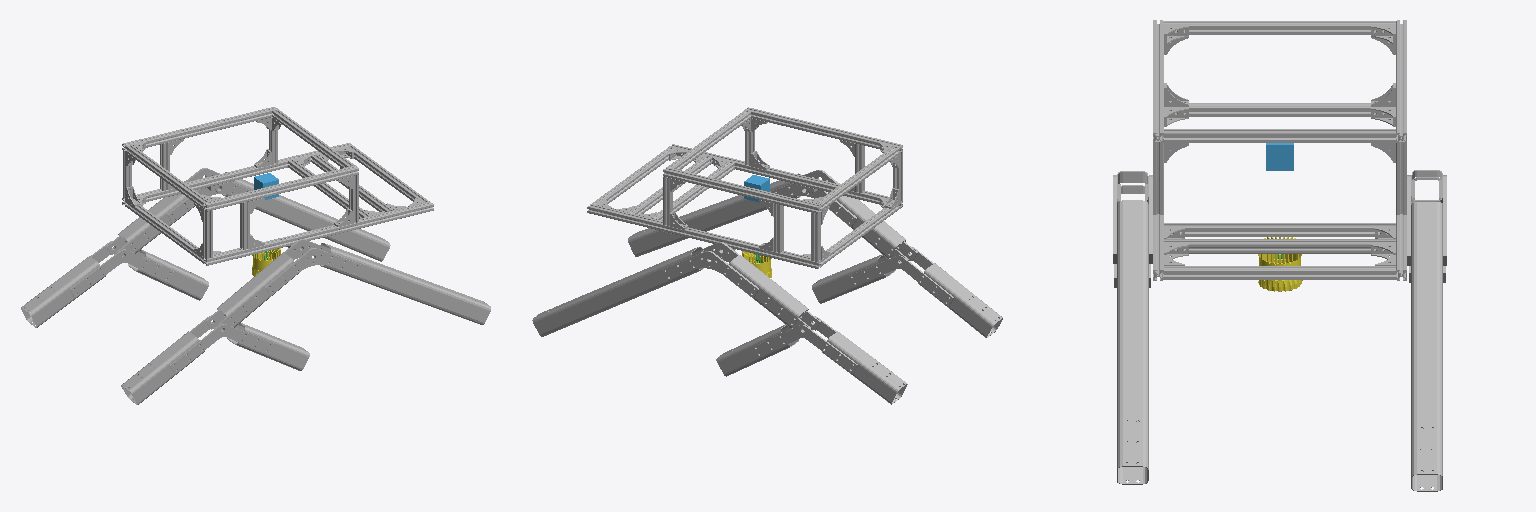
robot.urdf — rover:
<?xml version="1.0" encoding="utf-8"?>
<!-- This URDF was automatically created by SolidWorks to URDF Exporter! Originally created by [author] ([email redacted]) 
     Commit Version: 1.6.0-4-g7f85cfe  Build Version: 1.6.7995.38578
     For more information, please see http://wiki.ros.org/sw_urdf_exporter -->
<robot
  name="rover">
  <link
    name="chassis">
    <inertial>
      <origin
        xyz="0.280596630449412 0.391929398096866 0.497299040946044"
        rpy="0 0 0" />
      <mass
        value="1.29640563513338" />
      <inertia
        ixx="0.00672846851367381"
        ixy="1.67488363226178E-11"
        ixz="4.18701658746673E-12"
        iyy="0.0141290723043649"
        iyz="4.23106487277759E-11"
        izz="0.0202362014370819" />
    </inertial>
    <visual>
      <origin
        xyz="0 0 0"
        rpy="0 0 0" />
      <geometry>
        <mesh
          filename="package://rover/rover/simulation/meshes/chassis.STL" />
      </geometry>
      <material
        name="">
        <color
          rgba="0.752941176470588 0.752941176470588 0.752941176470588 1" />
      </material>
    </visual>
    <collision>
      <origin
        xyz="0 0 0"
        rpy="0 0 0" />
      <geometry>
        <mesh
          filename="package://rover/rover/simulation/meshes/chassis.STL" />
      </geometry>
    </collision>
  </link>
  <link
    name="right_rocker">
    <inertial>
      <origin
        xyz="-0.0569379504262081 -0.0279401827117303 0.173105600500696"
        rpy="0 0 0" />
      <mass
        value="0.702057959029176" />
      <inertia
        ixx="0.00201938596176855"
        ixy="8.38446274601664E-19"
        ixz="-0.00197087340304265"
        iyy="0.00810448763367223"
        iyz="3.52036066567989E-19"
        izz="0.00646378679421278" />
    </inertial>
    <visual>
      <origin
        xyz="0 0 0"
        rpy="0 0 0" />
      <geometry>
        <mesh
          filename="package://rover/rover/simulation/meshes/rocker_1.STL" />
      </geometry>
      <material
        name="">
        <color
          rgba="0.752941176470588 0.752941176470588 0.752941176470588 1" />
      </material>
    </visual>
    <collision>
      <origin
        xyz="0 0 0"
        rpy="0 0 0" />
      <geometry>
        <mesh
          filename="package://rover/simulation/meshes/rocker_1.STL" />
      </geometry>
    </collision>
  </link>
  <joint
    name="chassis_right_rocker_joint"
    type="fixed">
    <origin
      xyz="0.256227202845866 0.104049397997044 0.442431681089809"
      rpy="3.14159265358979 0 0" />
    <parent
      link="chassis" />
    <child
      link="right_rocker" />
    <axis
      xyz="0 1 0" />
  </joint>
  <link
    name="front_right_wheel">
    <inertial>
      <origin
        xyz="-0.000176268265629331 -0.063545275407954 -0.000101180829060271"
        rpy="0 0 0" />
      <mass
        value="3.71098878156725" />
      <inertia
        ixx="0.0272042721492542"
        ixy="4.78292852750308E-05"
        ixz="-4.80095002679056E-05"
        iyy="0.0486688742529404"
        iyz="2.76468584338433E-05"
        izz="0.0272554582911533" />
    </inertial>
    <visual>
      <origin
        xyz="0 0 0"
        rpy="0 0 0" />
      <geometry>
        <mesh
          filename="package://rover/rover/simulation/meshes/wheel_1.STL" />
      </geometry>
      <material
        name="">
        <color
          rgba="0.752941176470588 0.752941176470588 0.752941176470588 1" />
      </material>
    </visual>
    <collision>
      <origin
        xyz="0 0 0"
        rpy="0 0 0" />
      <geometry>
        <mesh
          filename="package://rover/rover/simulation/meshes/wheel_1.STL" />
      </geometry>
    </collision>
  </link>
  <joint
    name="front_right_wheel_joint"
    type="continuous">
    <origin
      xyz="0.566011190291999 0.1316352 0.343614113670245"
      rpy="0 0 0" />
    <parent
      link="right_rocker" />
    <child
      link="front_right_wheel" />
    <axis
      xyz="0 1 0" />
  </joint>
  <link
    name="rear_right_wheel">
    <inertial>
      <origin
        xyz="0.000178620256626905 -0.0635452759401471 -9.69747179342118E-05"
        rpy="0 0 0" />
      <mass
        value="3.71098882585926" />
      <inertia
        ixx="0.0271986135719232"
        ixy="-4.86694249211029E-05"
        ixz="4.4432824626282E-05"
        iyy="0.048668870619602"
        iyz="2.62407892171943E-05"
        izz="0.0272611104614586" />
    </inertial>
    <visual>
      <origin
        xyz="0 0 0"
        rpy="0 0 0" />
      <geometry>
        <mesh
          filename="package://rover/rover/simulation/meshes/wheel_2.STL" />
      </geometry>
      <material
        name="">
        <color
          rgba="0.752941176470588 0.752941176470588 0.752941176470588 1" />
      </material>
    </visual>
    <collision>
      <origin
        xyz="0 0 0"
        rpy="0 0 0" />
      <geometry>
        <mesh
          filename="package://rover/rover/simulation/meshes/wheel_2.STL" />
      </geometry>
    </collision>
  </link>
  <joint
    name="rear_right_wheel_joint"
    type="continuous">
    <origin
      xyz="-0.569418798760428 0.1316347 0.337858198560885"
      rpy="0 0 0" />
    <parent
      link="right_rocker" />
    <child
      link="rear_right_wheel" />
    <axis
      xyz="0 1 0" />
  </joint>
  <link
    name="middle_right_wheel">
    <inertial>
      <origin
        xyz="0.00194962016118483 -0.0675452750876231 0.00121412273220574"
        rpy="0 0 0" />
      <mass
        value="3.71098876791251" />
      <inertia
        ixx="0.0272070703663635"
        ixy="4.70156922027863E-05"
        ixz="-4.9399498887416E-05"
        iyy="0.0486688742503798"
        iyz="2.90088130261499E-05"
        izz="0.0272526600966611" />
    </inertial>
    <visual>
      <origin
        xyz="0 0 0"
        rpy="0 0 0" />
      <geometry>
        <mesh
          filename="package://rover/rover/simulation/meshes/wheel_3.STL" />
      </geometry>
      <material
        name="">
        <color
          rgba="0.752941176470588 0.752941176470588 0.752941176470588 1" />
      </material>
    </visual>
    <collision>
      <origin
        xyz="0 0 0"
        rpy="0 0 0" />
      <geometry>
        <mesh
          filename="package://rover/rover/simulation/meshes/wheel_3.STL" />
      </geometry>
    </collision>
  </link>
  <joint
    name="middle_right_wheel_joint"
    type="continuous">
    <origin
      xyz="0.00389311933816788 0.135634699999995 0.348264389277544"
      rpy="0 0 0" />
    <parent
      link="right_rocker" />
    <child
      link="middle_right_wheel" />
    <axis
      xyz="0 1 0" />
  </joint>
  <link
    name="left_rocker">
    <inertial>
      <origin
        xyz="-0.0634016522720201 0.0349398172882701 0.170844109095454"
        rpy="0 0 0" />
      <mass
        value="0.702057959029149" />
      <inertia
        ixx="0.00217365418533618"
        ixy="6.73373283262978E-19"
        ixz="-0.00213217567457792"
        iyy="0.00810448763367225"
        iyz="9.78126874401938E-19"
        izz="0.00630951857064517" />
    </inertial>
    <visual>
      <origin
        xyz="0 0 0"
        rpy="0 0 0" />
      <geometry>
        <mesh
          filename="package://rover/rover/simulation/meshes/rocker_2.STL" />
      </geometry>
      <material
        name="">
        <color
          rgba="0.752941176470588 0.752941176470588 0.752941176470588 1" />
      </material>
    </visual>
    <collision>
      <origin
        xyz="0 0 0"
        rpy="0 0 0" />
      <geometry>
        <mesh
          filename="package://rover/rover/simulation/meshes/rocker_2.STL" />
      </geometry>
    </collision>
  </link>
  <joint
    name="chassis_left_rocker_joint"
    type="fixed">
    <origin
      xyz="0.257280649253525 0.686809397997044 0.442407585082231"
      rpy="3.14159265358979 0 0" />
    <parent
      link="chassis" />
    <child
      link="left_rocker" />
    <axis
      xyz="0 1 0" />
  </joint>
  <link
    name="front_left_wheel">
    <inertial>
      <origin
        xyz="0.00194021425049595 0.0675452760210624 0.0012290934521642"
        rpy="0 0 0" />
      <mass
        value="3.71098880202612" />
      <inertia
        ixx="0.0272054221797023"
        ixy="-4.6545735350503E-05"
        ixz="-4.86053275352078E-05"
        iyy="0.0486688742211578"
        iyz="-2.97572117749254E-05"
        izz="0.0272543080141054" />
    </inertial>
    <visual>
      <origin
        xyz="0 0 0"
        rpy="0 0 0" />
      <geometry>
        <mesh
          filename="package://rover/rover/simulation/meshes/wheel_4.STL" />
      </geometry>
      <material
        name="">
        <color
          rgba="0.752941176470588 0.752941176470588 0.752941176470588 1" />
      </material>
    </visual>
    <collision>
      <origin
        xyz="0 0 0"
        rpy="0 0 0" />
      <geometry>
        <mesh
          filename="package://rover/rover/simulation/meshes/wheel_4.STL" />
      </geometry>
    </collision>
  </link>

  <joint
    name="front_left_wheel_joint"
    type="continuous">
    <origin
      xyz="0.550522165589643 -0.128635200000009 0.363405762447953"
      rpy="0 0 0" />
    <parent
      link="left_rocker" />
    <child
      link="front_left_wheel" />
    <axis
      xyz="0 1 0" />
  </joint>
  <link
    name="middle_left_wheel">
    <inertial>
      <origin
        xyz="0.00190412164591511 0.0675452763004372 0.00128429872637638"
        rpy="0 0 0" />
      <mass
        value="3.7109887931054" />
      <inertia
        ixx="0.0272082525262715"
        ixy="-4.56720854196087E-05"
        ixz="-4.99283758016243E-05"
        iyy="0.0486688742002614"
        iyz="-3.10813718997883E-05"
        izz="0.0272514775785934" />
    </inertial>
    <visual>
      <origin
        xyz="0 0 0"
        rpy="0 0 0" />
      <geometry>
        <mesh
          filename="package://rover/rover/simulation/meshes/wheel_5.STL" />
      </geometry>
      <material
        name="">
        <color
          rgba="0.752941176470588 0.752941176470588 0.752941176470588 1" />
      </material>
    </visual>
    <collision>
      <origin
        xyz="0 0 0"
        rpy="0 0 0" />
      <geometry>
        <mesh
          filename="package://rover/rover/simulation/meshes/wheel_5.STL" />
      </geometry>
    </collision>
  </link>
  <joint
    name="middle_left_wheel_joint"
    type="continuous">
    <origin
      xyz="-0.00926565490461811 -0.128635699999999 0.348270005795649"
      rpy="0 0 0" />
    <parent
      link="left_rocker" />
    <child
      link="middle_left_wheel" />
    <axis
      xyz="0 1 0" />
  </joint>
  <link
    name="rear_left_wheel">
    <inertial>
      <origin
        xyz="0.000183308022644324 0.063545275877115 -8.77894032265403E-05"
        rpy="0 0 0" />
      <mass
        value="3.71098880708039" />
      <inertia
        ixx="0.0271974322176279"
        ixy="4.97534168410985E-05"
        ixz="4.36810350456356E-05"
        iyy="0.0486688742475462"
        iyz="-2.40124238018518E-05"
        izz="0.027262298065" />
    </inertial>
    <visual>
      <origin
        xyz="0 0 0"
        rpy="0 0 0" />
      <geometry>
        <mesh
          filename="package://rover/rover/simulation/meshes/wheel_6.STL" />
      </geometry>
      <material
        name="">
        <color
          rgba="0.752941176470588 0.752941176470588 0.752941176470588 1" />
      </material>
    </visual>
    <collision>
      <origin
        xyz="0 0 0"
        rpy="0 0 0" />
      <geometry>
        <mesh
          filename="package://rover/rover/simulation/meshes/wheel_6.STL" />
      </geometry>
    </collision>
  </link>
  <joint
    name="rear_left_wheel_joint"
    type="continuous">
    <origin
      xyz="-0.585325281230279 -0.124635699999999 0.308803919717537"
      rpy="0 0 0" />
    <parent
      link="left_rocker" />
    <child
      link="rear_left_wheel" />
    <axis
      xyz="0 1 0" />
  </joint>

  <link name="imu_link">
    <collision>
      <origin xyz="0 0 0" rpy="0 0 0"/>
      <geometry>
    <box size="0.05 0.05 0.05"/>
      </geometry>
    </collision>

    <visual>
      <origin xyz="0 0 0" rpy="0 0 0"/>
      <geometry>
    <box size="0.05 0.05 0.05"/>
      </geometry>
      <material name="red"/>
    </visual>

    <inertial>
      <mass value="1e-5" />
      <origin xyz="0 0 0" rpy="0 0 0"/>
      <inertia ixx="1e-6" ixy="0" ixz="0" iyy="1e-6" iyz="0" izz="1e-6" />
    </inertial>
  </link>


  <joint name="imu_joint" type="fixed">
    <origin
      xyz="0.280596630449412 0.391929398096866 0.497299040946044"
      rpy="1.5707963267949 0 0" />
    <parent
      link="chassis" />
    <child
      link="imu_link" />
    <axis
      xyz="0 0 0" />
  </joint>

  <link name="gps_link">
    <collision>
      <origin xyz="0 0 0" rpy="0 0 0"/>
      <geometry>
    <box size="0.05 0.05 0.05"/>
      </geometry>
    </collision>

    <visual>
      <origin xyz="0 0 0" rpy="0 0 0"/>
      <geometry>
    <box size="0.05 0.05 0.05"/>
      </geometry>
      <material name="red"/>
    </visual>

    <inertial>
      <mass value="1e-5" />
      <origin xyz="0 0 0" rpy="0 0 0"/>
      <inertia ixx="1e-6" ixy="0" ixz="0" iyy="1e-6" iyz="0" izz="1e-6" />
    </inertial>
  </link>

  <joint name="gps_joint" type="fixed">
    <origin
      xyz="0.280596630449412 0.391929398096866 0.278189004081027" 
      rpy="0 0 0" />
    <parent
      link="chassis" />
    <child
      link="gps_link" />
    <axis
      xyz="0 0 0" />
  </joint>

  <link name="lidar_link">
    <inertial>
      <mass value="0.425"/>
      <origin xyz="0 0 0.03675" rpy="0 0 0" />
      <inertia ixx="0.000308429" ixy="0" ixz="0"
                iyy="0.000308429" iyz="0" izz="0.00034589"/>
    </inertial>
    <collision>
      <origin xyz="0 0 0.03675" rpy="0 0 0" />
      <geometry>
        <mesh filename="package://rover/rover/simulation/meshes/os1_64.stl" />
      </geometry>
    </collision>
    <visual>
      <origin xyz="0 0 0" rpy="0 0 0"/>
      <geometry>
        <mesh filename="package://rover/rover/simulation/meshes/os1_64.stl" />
      </geometry>
    </visual>
  </link>

  <joint name="lidar_joint" type="fixed">
      <parent link="chassis"/>
      <child link="lidar_link"/>
      <axis
      xyz="0 0 0" />
      <origin
      xyz="0.280596630449412 0.391929398096866 0.278189004081027"
      rpy="0 0 0" />
  </joint> 

  <gazebo>
    <plugin name="gazebo_ros_control" filename="libgazebo_ros_control.so">
      <robotNamespace>/</robotNamespace>
      <controlPeriod>0.001</controlPeriod>
      <legacyModeNS>false</legacyModeNS>
    </plugin>
  </gazebo>
  <gazebo>
      <plugin name="diff_drive_controller" filename="libgazebo_ros_diff_drive.so">
        <legacyMode>false</legacyMode>
        <alwaysOn>true</alwaysOn>
        <updateRate>1000.0</updateRate>
        <leftJoint>front_left_wheel_joint, middle_left_wheel_joint, rear_left_wheel_joint</leftJoint>
        <rightJoint>front_right_wheel_joint, middle_right_wheel_joint, rear_right_wheel_joint</rightJoint>
        <wheelSeparation>0.5</wheelSeparation>
        <wheelDiameter>0.2</wheelDiameter>
        <wheelTorque>10</wheelTorque>
        <publishTf>1</publishTf>
        <odometryFrame>map</odometryFrame>
        <commandTopic>cmd_vel</commandTopic> 
        <odometryTopic>odom</odometryTopic>
        <robotBaseFrame>chassis</robotBaseFrame>
        <wheelAcceleration>2.8</wheelAcceleration>
        <publishWheelJointState>true</publishWheelJointState>
        <publishWheelTF>false</publishWheelTF>
        <odometrySource>world</odometrySource>
        <rosDebugLevel>Debug</rosDebugLevel>
      </plugin>
  </gazebo>
  <gazebo reference="front_left_wheel">
    <mu1 value="1.0"/>
    <mu2 value="1.0"/>
    <kp value="10000000.0" />
    <kd value="1.0" />
    <fdir1 value="1 0 0"/>
  </gazebo>

  <gazebo reference="front_right_wheel">
  <mu1 value="1.0"/>
  <mu2 value="1.0"/>
  <kp value="10000000.0" />
  <kd value="1.0" />
  <fdir1 value="1 0 0"/>
  </gazebo>

  <gazebo reference="rear_left_wheel">
    <mu1 value="1.0"/>
    <mu2 value="1.0"/>
    <kp value="10000000.0" />
    <kd value="1.0" />
    <fdir1 value="1 0 0"/>
  </gazebo>

  <gazebo reference="rear_left_wheel">
    <mu1 value="1.0"/>
    <mu2 value="1.0"/>
    <kp value="10000000.0" />
    <kd value="1.0" />
    <fdir1 value="1 0 0"/>
  </gazebo>
  <!--######################################################################-->

  <gazebo>
    <plugin filename="libhector_gazebo_ros_imu.so"
              name="hector_imu_plugin" >
      <alwaysOn>true</alwaysOn>
      <bodyName>imu_link</bodyName>
      <topicName>imu</topicName>
      <serviceName>/imu/calibrate</serviceName>
      <gaussianNoise>0.0</gaussianNoise>
      <updateRate>50.0</updateRate>
      <frameName>imu_link</frameName>
      <accelOffset>0 0 0 </accelOffset>
      <accelGaussianNoise>0 0 0</accelGaussianNoise>
      <accelDrift>0 0 0 </accelDrift>
      <accelDriftFrequency>0 0 0</accelDriftFrequency>
      <rateOffset>0 0 0</rateOffset>
      <rateGaussianNoise> 0 0 0</rateGaussianNoise>
      <rateDrift>0 0 0 </rateDrift>
      <rateDriftFrequency> 0 0 0</rateDriftFrequency>
      <yawOffset> 0 </yawOffset>
      <yawGaussianNoise> 0 </yawGaussianNoise>
      <yawDrift> 0 </yawDrift>
      <yawDriftFrequency> 0 </yawDriftFrequency> 
    </plugin>
  </gazebo>

<!--######################################################################-->
  <gazebo>
    <plugin name="gps_controller" filename="libhector_gazebo_ros_gps.so">
        <robotNamespace>/</robotNamespace>
        <updateRate>40</updateRate>
        <bodyName>chassis</bodyName>
        <frameId>chassis</frameId>
        <topicName>navsat/fix</topicName>
        <velocityTopicName>navsat/vel</velocityTopicName>
        <referenceLatitude>50.0</referenceLatitude>
        <referenceLongitude>60.0</referenceLongitude>
        <referenceHeading>0</referenceHeading>
        <referenceAltitude>0</referenceAltitude>
        <drift>0.0001 0.0001 0.0001</drift>
    </plugin>
  </gazebo>
<!--######################################################################-->

<gazebo reference="lidar_link">
    <sensor type="gpu_ray" name="os1_lidar">
      <pose>0 0 0 0 0 0</pose>
          <visualize>false</visualize>
          <update_rate>10</update_rate>
          <ray>
            <scan>
              <horizontal>
                <samples>512</samples>
                <resolution>1</resolution>
                <min_angle>-3.141529</min_angle>
                <max_angle>3.141529</max_angle>
              </horizontal>
              <vertical>
                <samples>64</samples>
                <resolution>1</resolution>
                <min_angle>-3.141529</min_angle>
                <max_angle>-3.141529</max_angle>
              </vertical>
            </scan>
            <range>
              <min>0.9</min>
              <max>75.0</max>
              <resolution>0.03</resolution>
            </range>
          </ray>
      <plugin name="gazebo_ros_head_hokuyo_controller" filename="libgazebo_ros_gpu_laser.so">
        <topicName>/rrbot/laser/scan</topicName>
        <frameName>hokuyo_link</frameName>
      </plugin>
    </sensor>
</gazebo>

<!--######################################################################-->

  <transmission name="front_left_wheel_trans" type="SimpleTransmission">
    <type>transmission_interface/SimpleTransmission</type>
    <actuator name="front_left_wheel_motor">
    <hardwareInterface>hardware_interface/VelocityJointInterface</hardwareInterface>
    <mechanicalReduction>1</mechanicalReduction>
    </actuator>
    <joint name="front_left_wheel_joint">
    <hardwareInterface>hardware_interface/VelocityJointInterface</hardwareInterface>
    </joint>
  </transmission>

  <transmission name="middle_left_wheel_trans" type="SimpleTransmission">
    <type>transmission_interface/SimpleTransmission</type>
    <actuator name="middle_left_wheel_motor">
    <hardwareInterface>hardware_interface/VelocityJointInterface</hardwareInterface>
    <mechanicalReduction>1</mechanicalReduction>
    </actuator>
    <joint name="middle_left_wheel_joint">
    <hardwareInterface>hardware_interface/VelocityJointInterface</hardwareInterface>
    </joint>
  </transmission>

  <transmission name="middle_right_wheel_trans" type="SimpleTransmission">
    <type>transmission_interface/SimpleTransmission</type>
    <actuator name="middle_right_wheel_motor">
    <hardwareInterface>hardware_interface/VelocityJointInterface</hardwareInterface>
    <mechanicalReduction>1</mechanicalReduction>
    </actuator>
    <joint name="middle_right_wheel_joint">
    <hardwareInterface>hardware_interface/VelocityJointInterface</hardwareInterface>
    </joint>
  </transmission>

  <transmission name="front_right_wheel_trans" type="SimpleTransmission">
    <type>transmission_interface/SimpleTransmission</type>
    <actuator name="front_right_wheel_motor">
    <hardwareInterface>hardware_interface/VelocityJointInterface</hardwareInterface>
    <mechanicalReduction>1</mechanicalReduction>
    </actuator>
    <joint name="front_right_wheel_joint">
    <hardwareInterface>hardware_interface/VelocityJointInterface</hardwareInterface>
    </joint>
  </transmission>

  <transmission name="rear_left_wheel_trans" type="SimpleTransmission">
    <type>transmission_interface/SimpleTransmission</type>
    <actuator name="rear_left_wheel_motor">
    <hardwareInterface>hardware_interface/VelocityJointInterface</hardwareInterface>
    <mechanicalReduction>1</mechanicalReduction>
    </actuator>
    <joint name="rear_left_wheel_joint">
    <hardwareInterface>hardware_interface/VelocityJointInterface</hardwareInterface>
    </joint>
  </transmission>

  <transmission name="rear_right_wheel_trans" type="SimpleTransmission">
    <type>transmission_interface/SimpleTransmission</type>
    <actuator name="rear_right_wheel_motor">
    <hardwareInterface>hardware_interface/VelocityJointInterface</hardwareInterface>
    <mechanicalReduction>1</mechanicalReduction>
    </actuator>
    <joint name="rear_right_wheel_joint">
      <hardwareInterface>hardware_interface/VelocityJointInterface</hardwareInterface>
    </joint>
  </transmission>
</robot>

--- Facts derived from the render (not from the file) ---
The picture shows the robot from 3 angles, left to right: view 1: azimuth 30°, elevation 25°; view 2: azimuth 150°, elevation 25°; view 3: azimuth 270°, elevation 25°; orthographic projection.
Model rover with 12 links and 11 joints (6 continuous, 5 fixed), rooted at chassis, posed every joint at zero.
Visible links, largest first — view 1: chassis, right_rocker, left_rocker; view 2: chassis, left_rocker, right_rocker; view 3: chassis, right_rocker, left_rocker, lidar_link, imu_link.
Link boxes in pixels (bbox=[...]): chassis: bbox=[122, 107, 433, 265]; right_rocker: bbox=[121, 239, 490, 404]; left_rocker: bbox=[21, 168, 390, 327]; chassis: bbox=[587, 107, 902, 268]; left_rocker: bbox=[532, 242, 907, 404]; right_rocker: bbox=[628, 170, 1002, 337]; chassis: bbox=[1153, 20, 1406, 280]; right_rocker: bbox=[1113, 171, 1152, 484]; left_rocker: bbox=[1407, 170, 1446, 491]; lidar_link: bbox=[1258, 237, 1302, 291]; imu_link: bbox=[1266, 143, 1293, 170].
Bounding box of the posed robot: 1.13 × 0.5898 × 0.5422 m (x, y, z).
4 mesh visuals loaded from 10 distinct referenced files (4 binary STL); not drawn: 6 (reference not matched to a file when rendering).